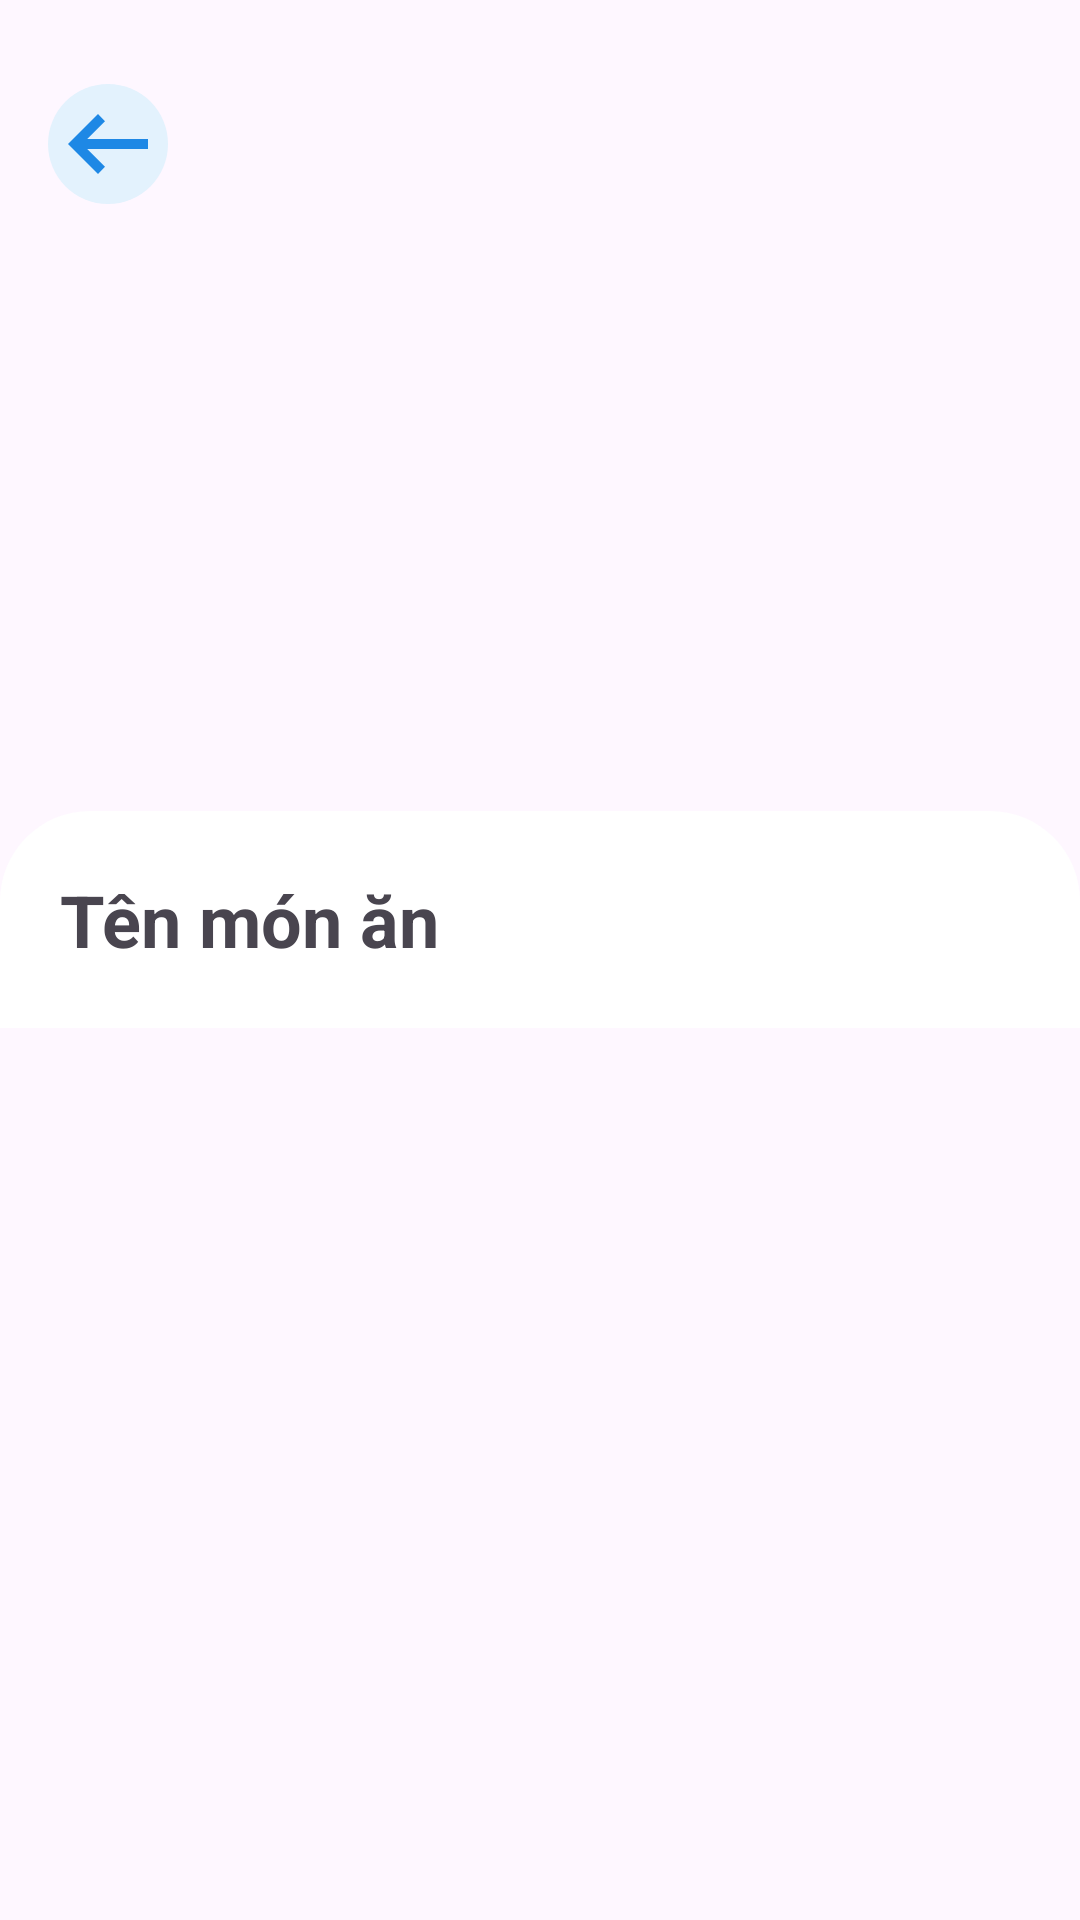

Icon bounding boxes for this 1080w x 1920h phone screenshot, format (x1, y1, x2, y2):
back: (48, 84, 168, 204)
